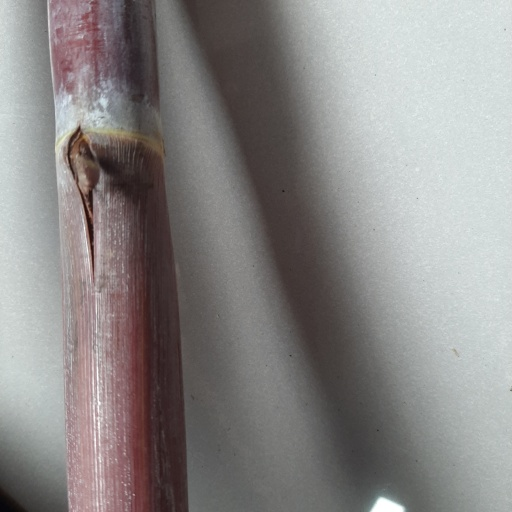Damage_Bud: (66, 127, 105, 214)
